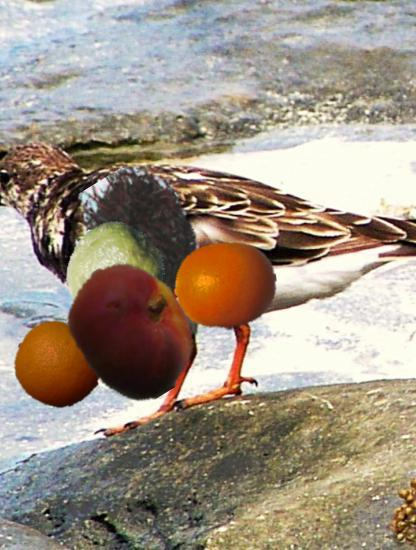Grapefruit: (174, 235, 277, 338)
Limes: (65, 223, 165, 323)
Nectarine: (62, 260, 204, 402)
Orange: (14, 320, 104, 410)
Rambutan: (64, 172, 204, 312)
